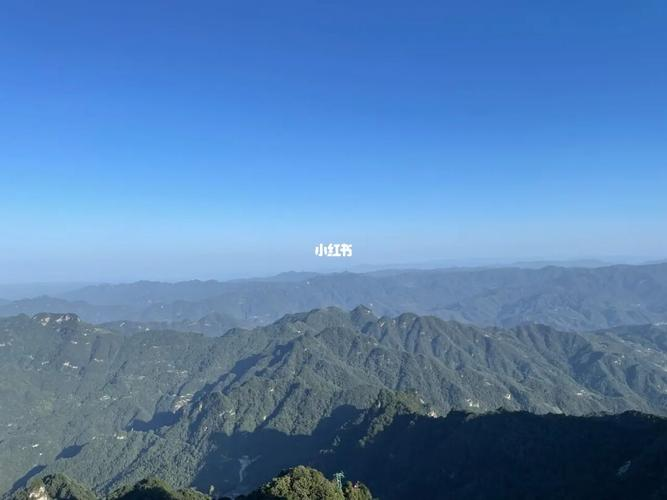mountain: (65, 298, 654, 474), (4, 306, 383, 475), (37, 269, 521, 324)
sky_cloud: (1, 62, 667, 247)
